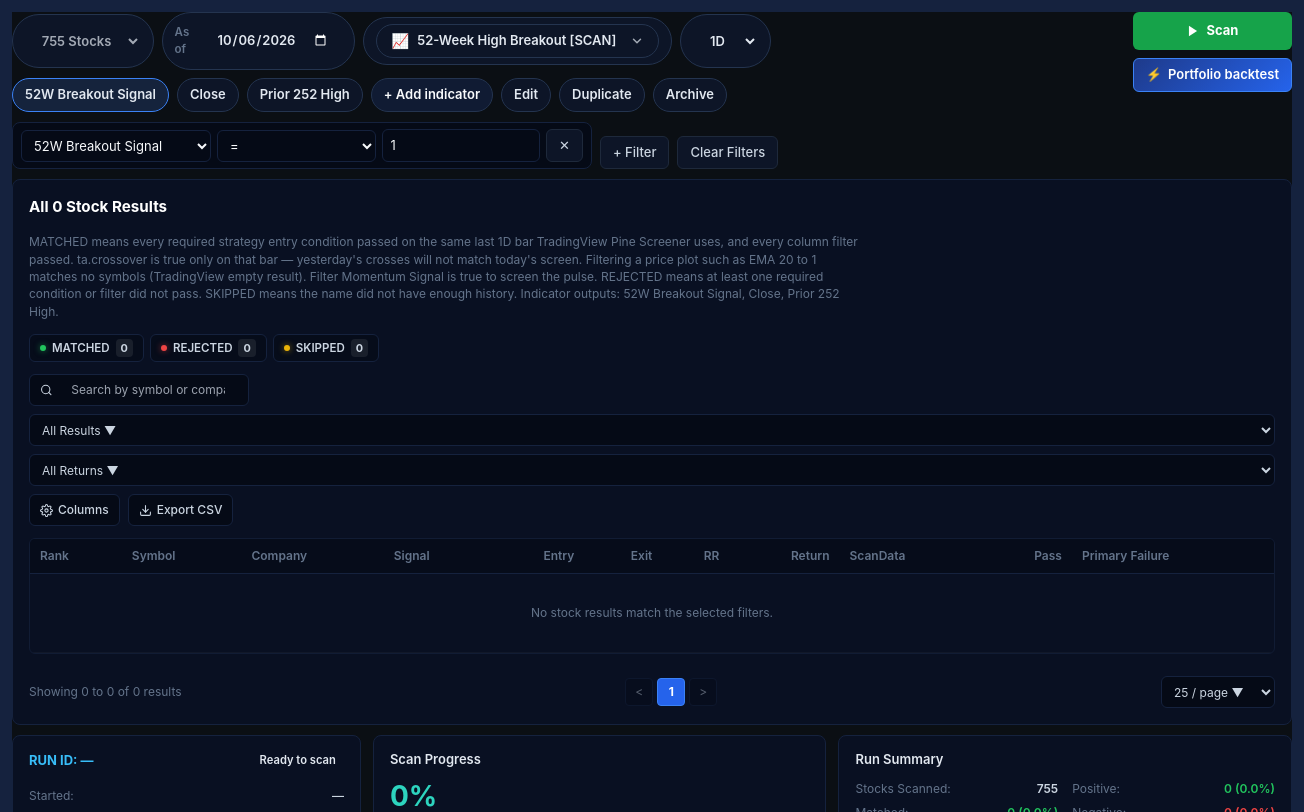
Test: IndicatorScreenerPanel › scans with the applied indicator and renders matching rows
The image size is (1304, 812).
What coordinates should you click on to do the following:
click the button with test id "btn-scan-indicator"
I would click on:
 (1212, 31)
Its box is [1133, 12, 1292, 50].
(page scrolled)
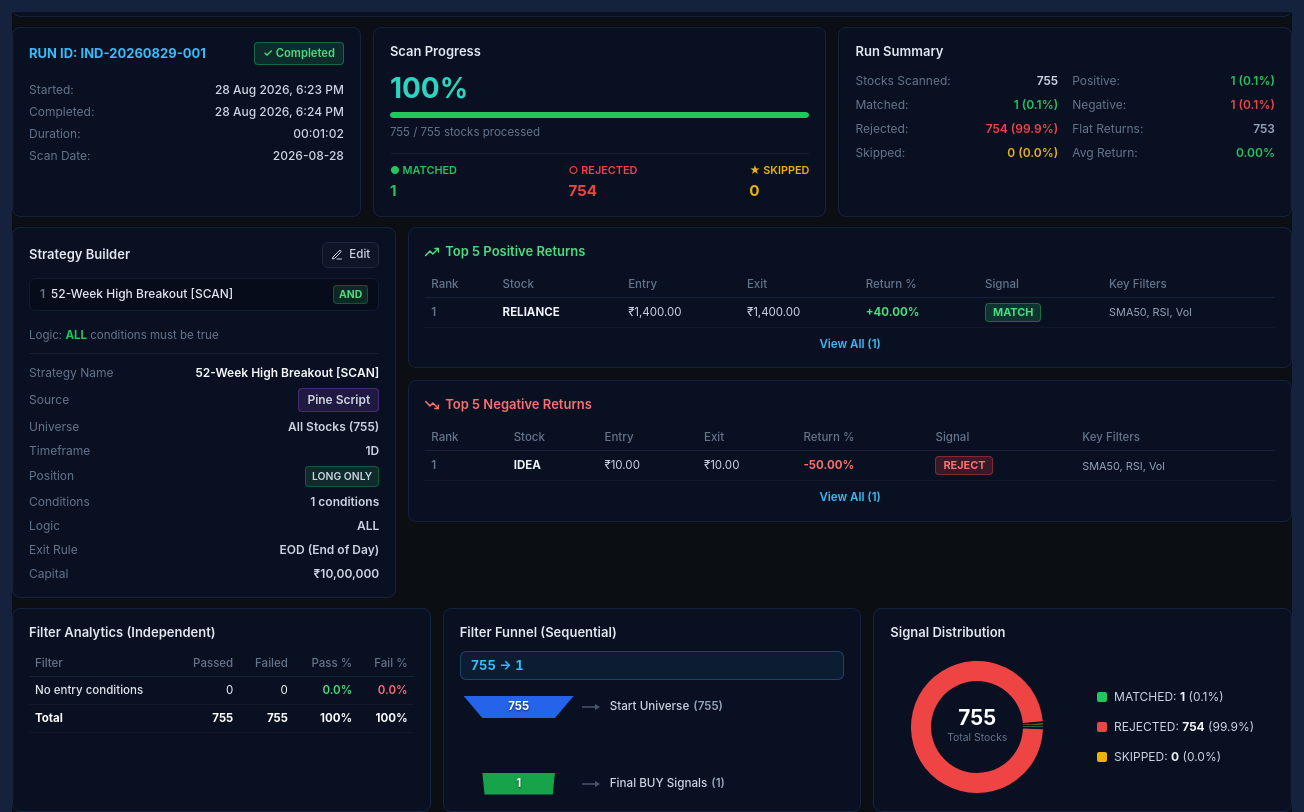
Result: the text with test id "run-scan-as-of" reads "2026-08-28" at [273, 148, 344, 163]
Result: the element with test id "card-scan-progress" shows "100%" at [373, 28, 826, 217]
Result: the element with test id "card-strategy-builder" is shown at [12, 227, 396, 598]
